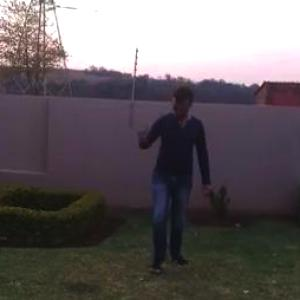takeoff-hand: (128, 114, 154, 149)
